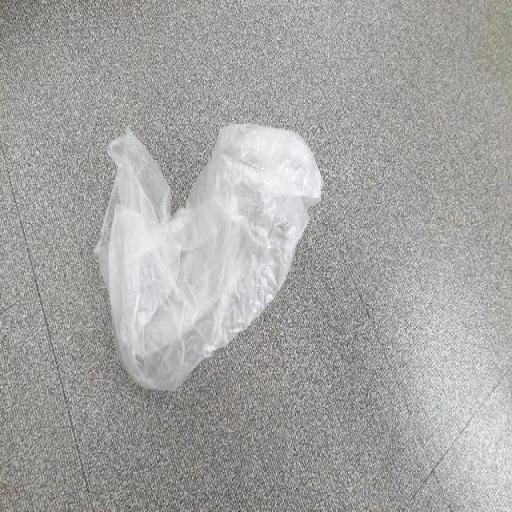plastic-bag: (93, 122, 322, 393)
